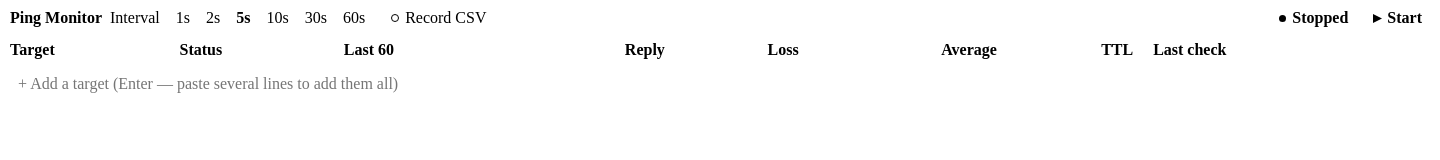
Test: PingMonitorPane › says to add a target when Start is pressed with none
Click the button "Start" at (1398, 18), box [1365,6,1430,30]
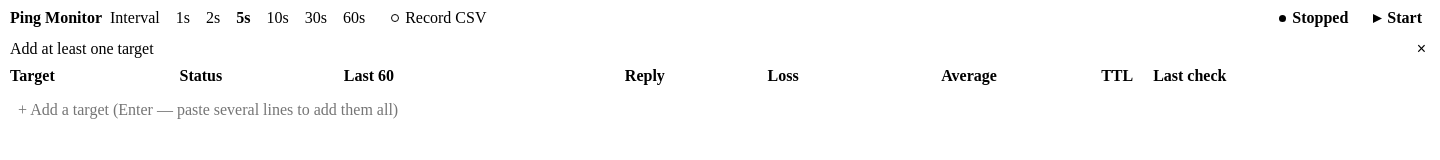
Now the text "Add at least one target" is shown, box [10,40,154,57]
